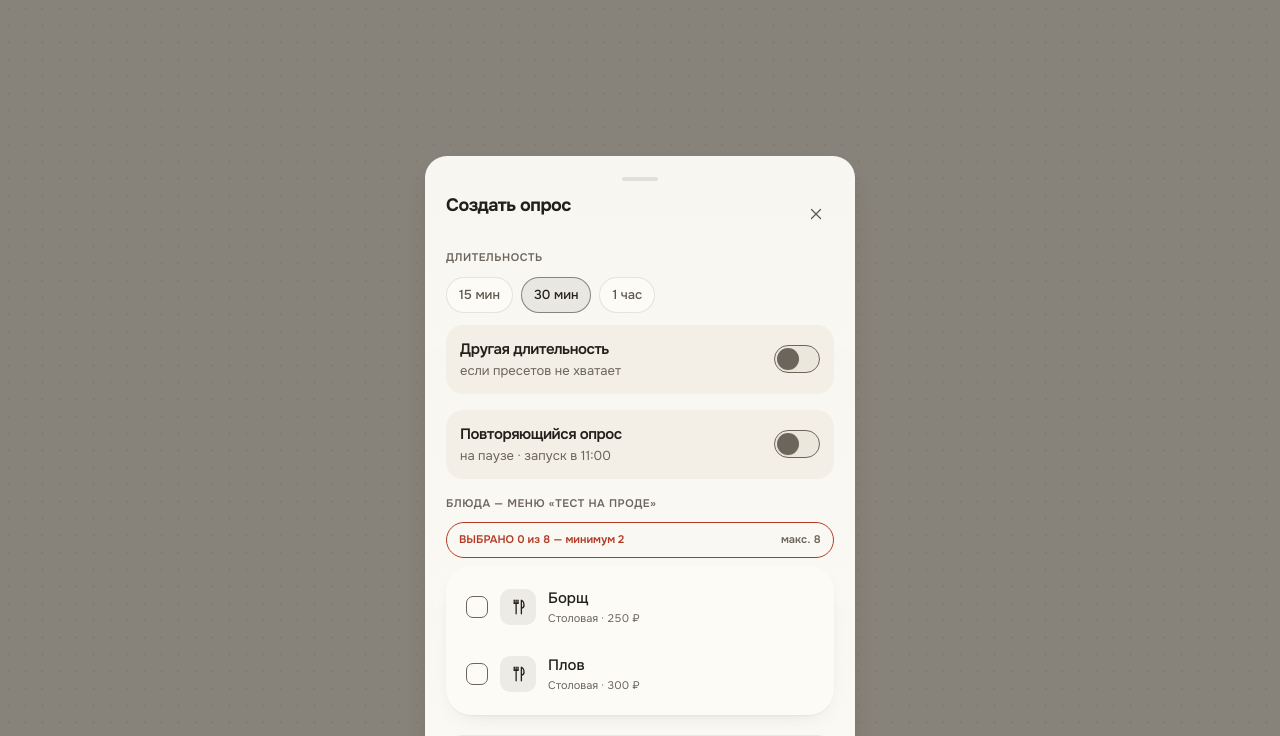
Test case: CreatePollSheet — расписание уже настроено › помечает расписание на паузе
Expected: the text "на паузе · запуск в 11:00" is shown, [460,446,622,467]
Step 1. Click the switch named "Повторяющийся опрос" → (797, 444), box [774,430,820,458]
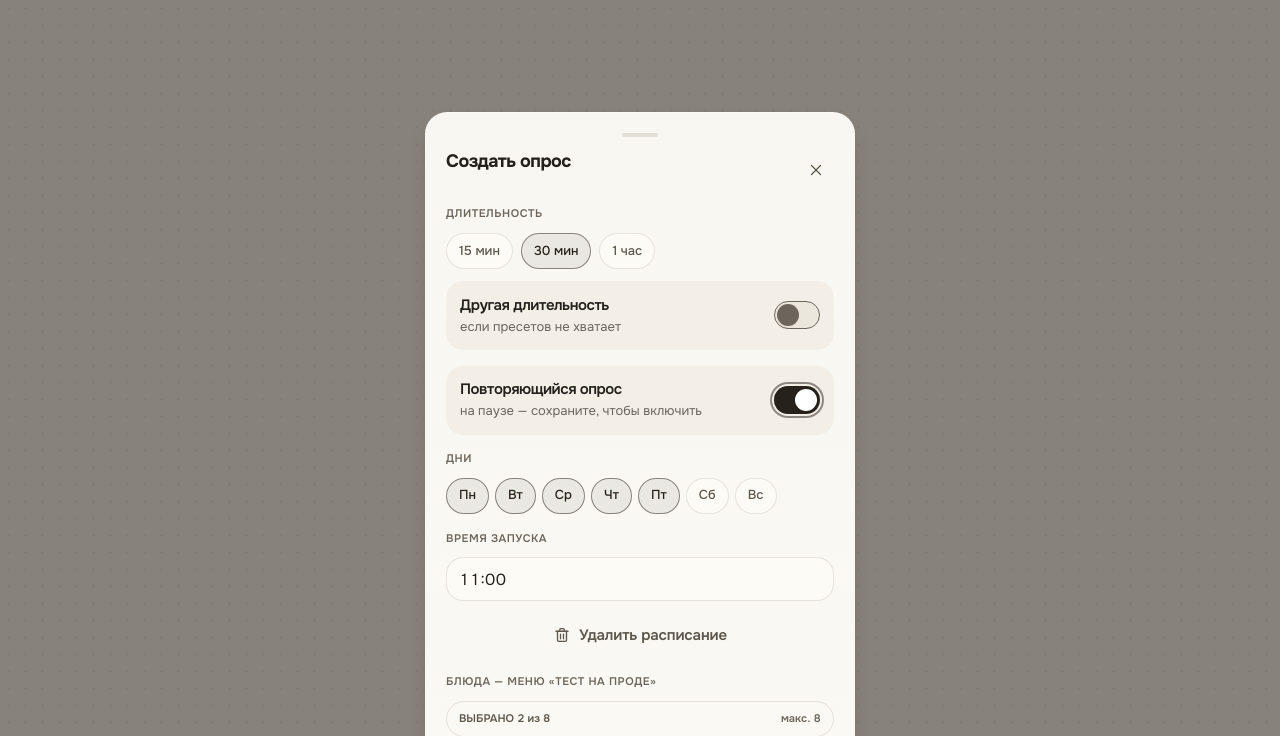
Result: the text "на паузе — сохраните, чтобы включить" is shown at [460,401,702,422]
